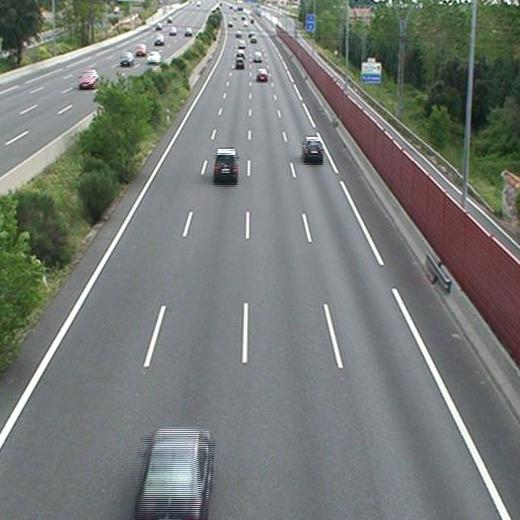car: (137, 427, 211, 520), (214, 149, 238, 179), (302, 138, 323, 159), (256, 69, 267, 81), (235, 58, 245, 68), (252, 51, 262, 61), (235, 49, 244, 56)
